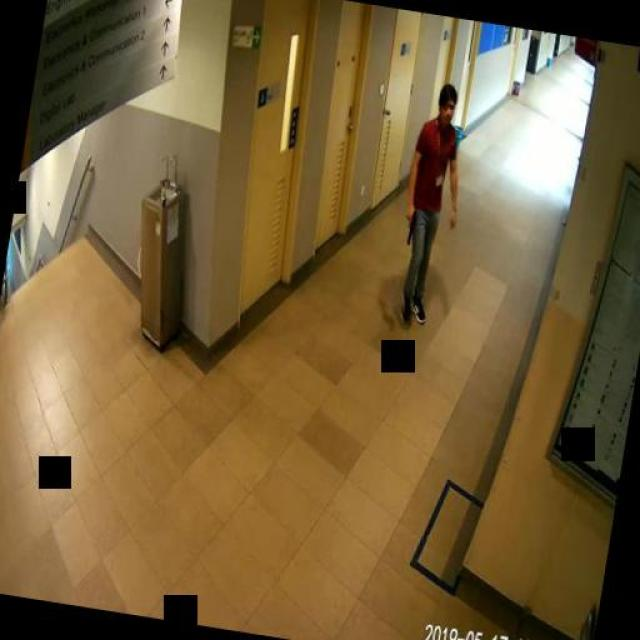gun: (400, 204, 416, 244)
